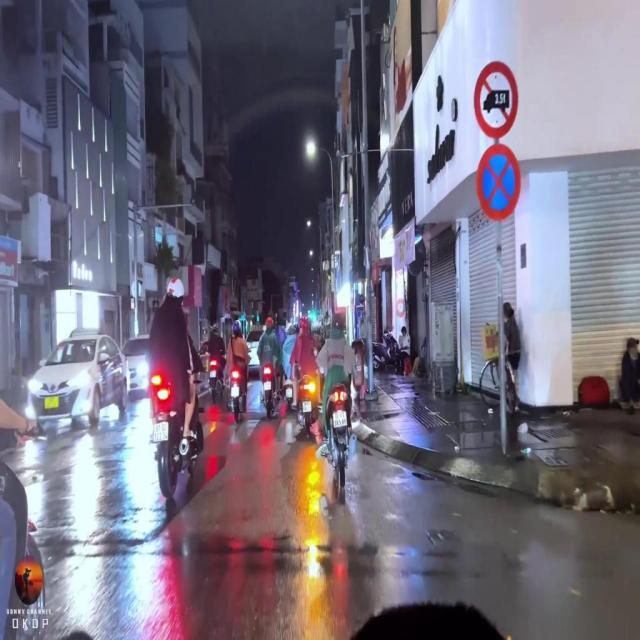cam_dung_xe_va_do_xe: (477, 142, 520, 221)
cam_o_to_tai: (474, 61, 518, 140)
